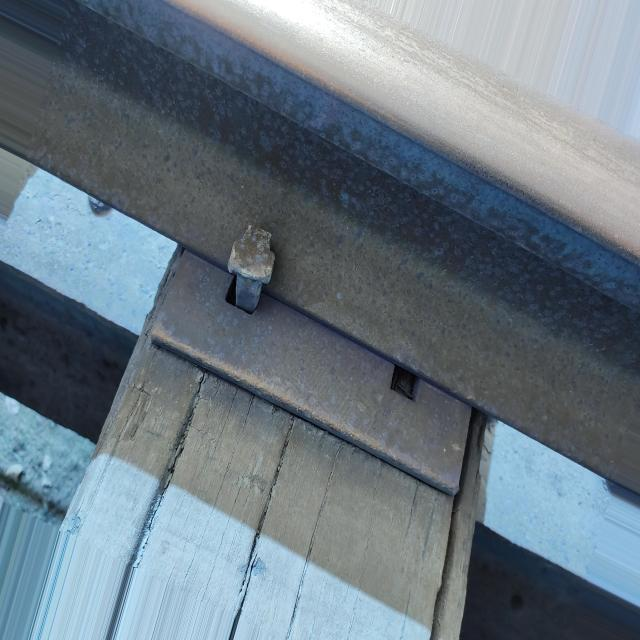Good Fasteners: (227, 226, 275, 314)
Missing Dogscrew: (391, 365, 419, 400)
